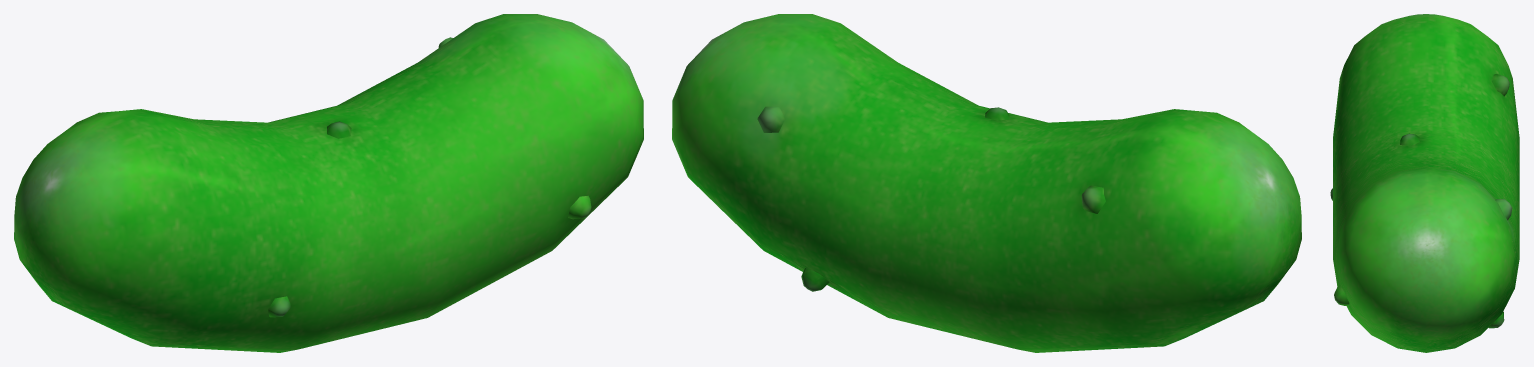
The model's file is Cucumber.fbx.
3 renders of one model, left to right at view 1: azimuth 30°, elevation 25°; view 2: azimuth 150°, elevation 25°; view 3: azimuth 270°, elevation 25°, orthographic. The views are drawn at different scales.
Visible parts, largest first — view 1: Cucumber; view 2: Cucumber; view 3: Cucumber.
Boxes of the visible parts, x1,y1,x2,y2 form: Cucumber: (14,14,643,352); Cucumber: (672,14,1301,352); Cucumber: (1330,14,1519,352).
Bounding box in the file's own units: 2.46 × 1 × 0.8272.
